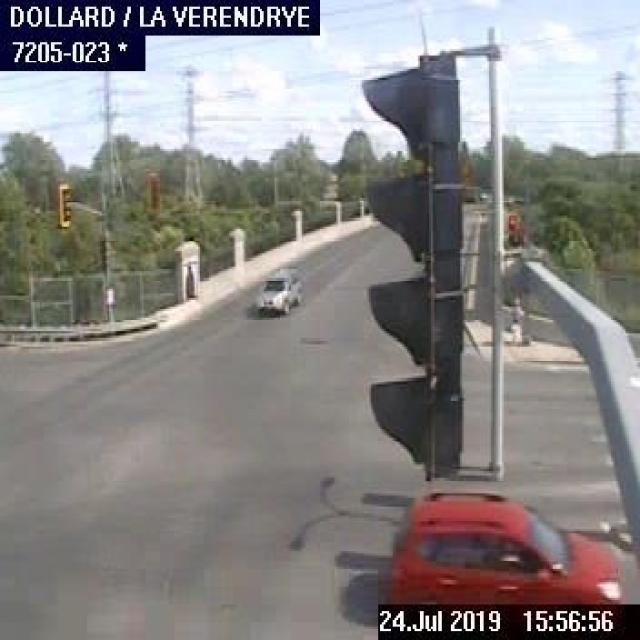pedestrian: (505, 296, 526, 346)
vehicle: (388, 484, 626, 602), (255, 262, 298, 314)
